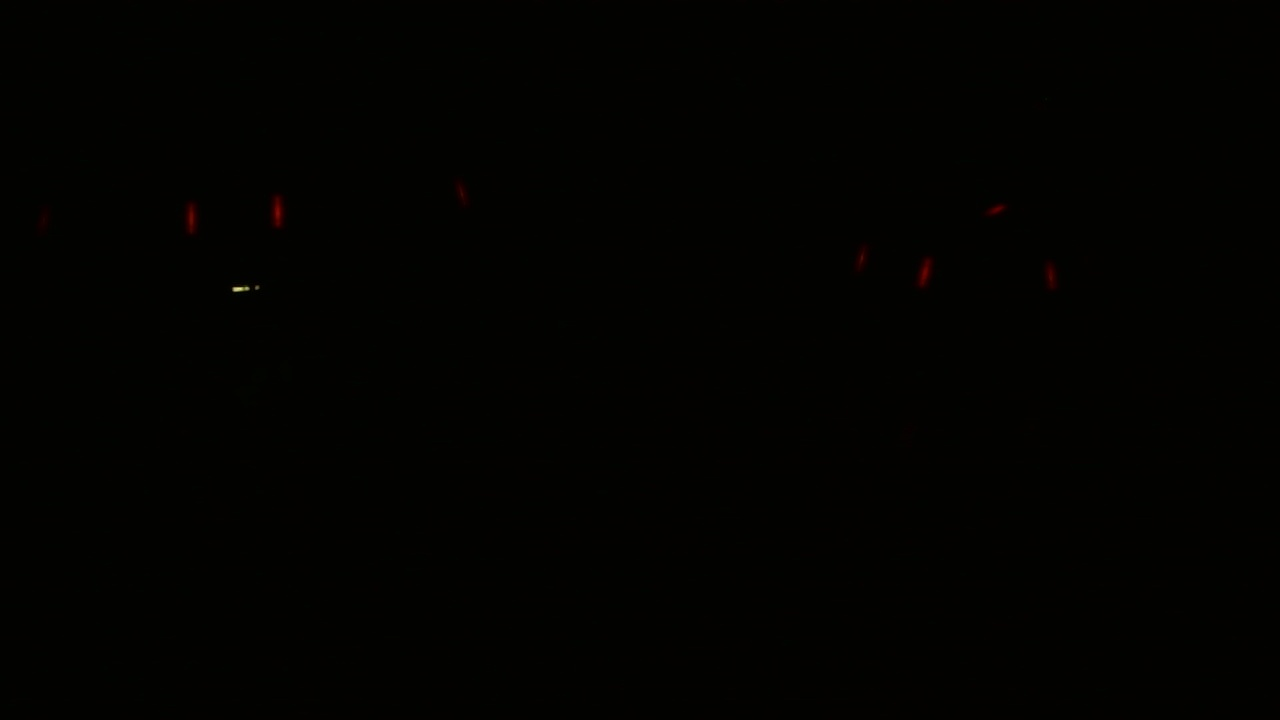pair1: (855, 241, 933, 290), (183, 197, 284, 234)
